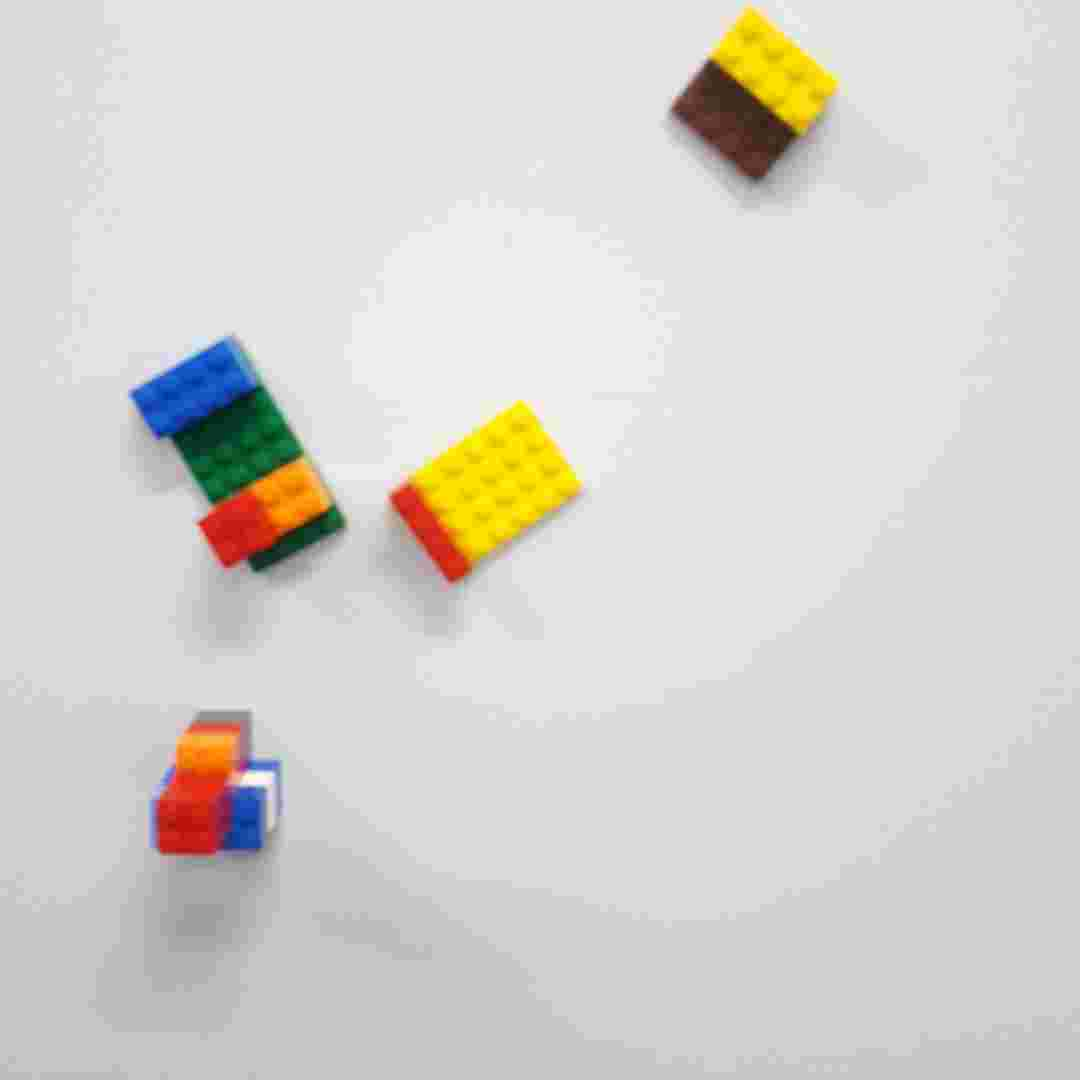LEGO: (131, 333, 353, 575), (386, 396, 590, 584), (657, 1, 850, 184), (146, 707, 290, 862)
